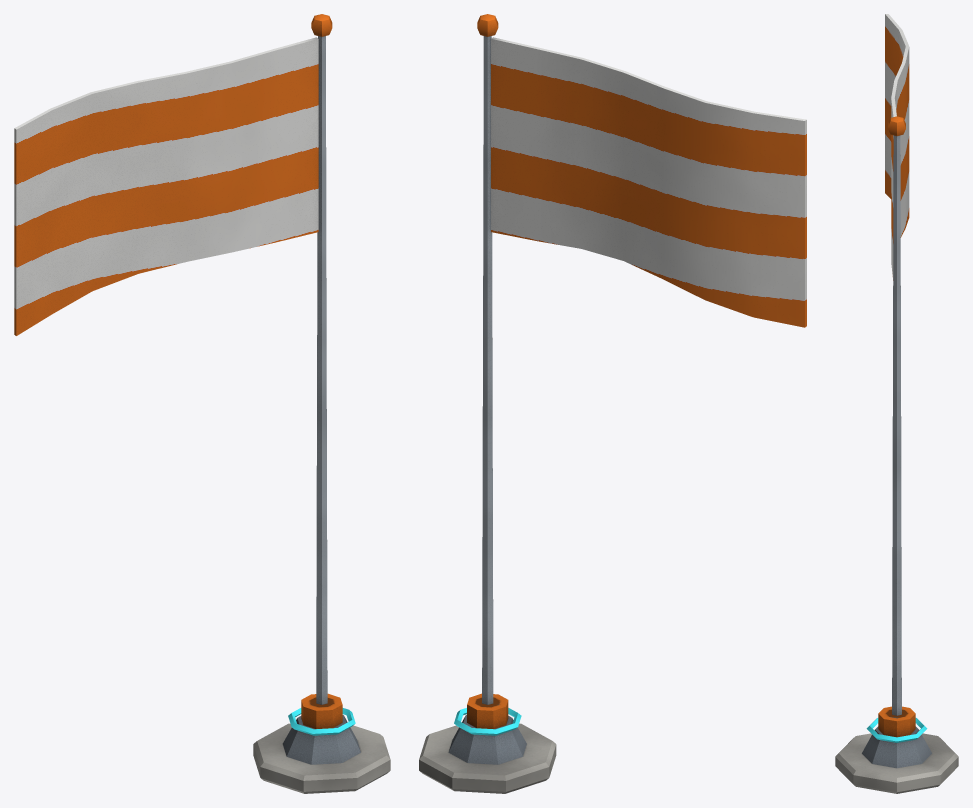
Rendered from bandera_humana.fbx.
The picture shows the model from 3 angles, left to right: view 1: azimuth 30°, elevation 25°; view 2: azimuth 150°, elevation 25°; view 3: azimuth 270°, elevation 25°; orthographic projection. The views are drawn at different scales.
Visible parts, largest first — view 1: bandera_humana, bandera_humana_neon; view 2: bandera_humana; view 3: bandera_humana, bandera_humana_neon.
Part boxes in pixels (x1=…): bandera_humana: x1=14, y1=14, x2=390, y2=793; bandera_humana_neon: x1=288, y1=708, x2=355, y2=735; bandera_humana: x1=419, y1=14, x2=806, y2=793; bandera_humana: x1=835, y1=14, x2=958, y2=793; bandera_humana_neon: x1=866, y1=718, x2=927, y2=742.
Size of the model in its own units: 8.5 by 16.34 by 2.8.
2 materials, 2 textured.
